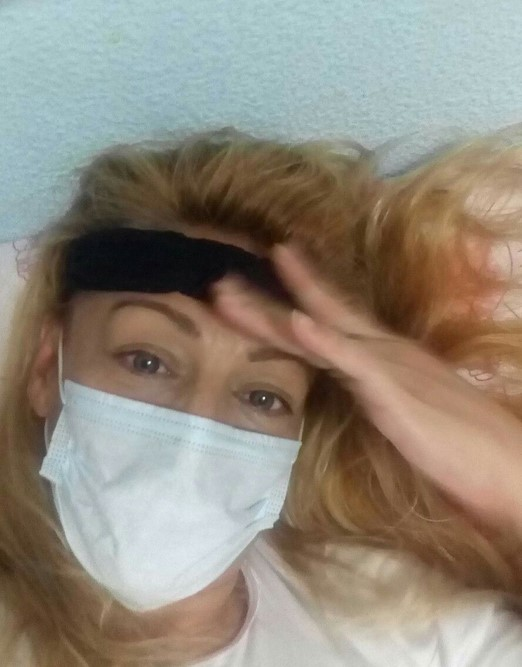face_with_mask: (44, 211, 335, 620)
